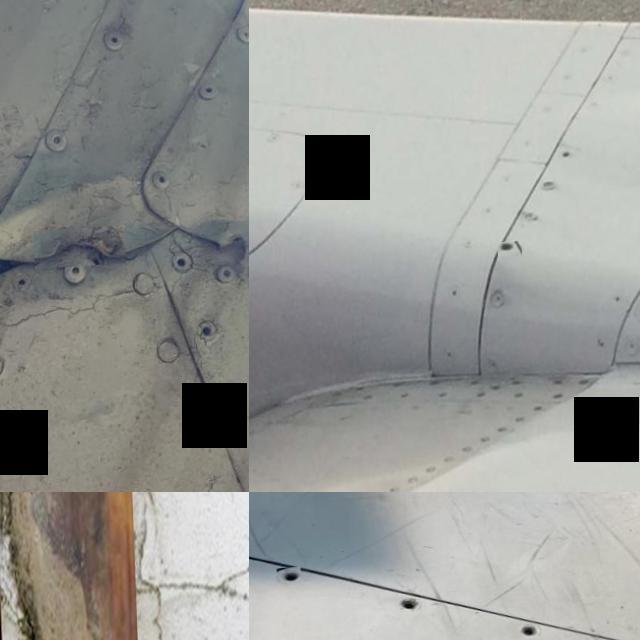Crack: (0, 492, 43, 640), (31, 230, 123, 273), (495, 246, 519, 262)
Missing_Fastener: (274, 568, 300, 588), (395, 598, 421, 616), (515, 625, 537, 640)
